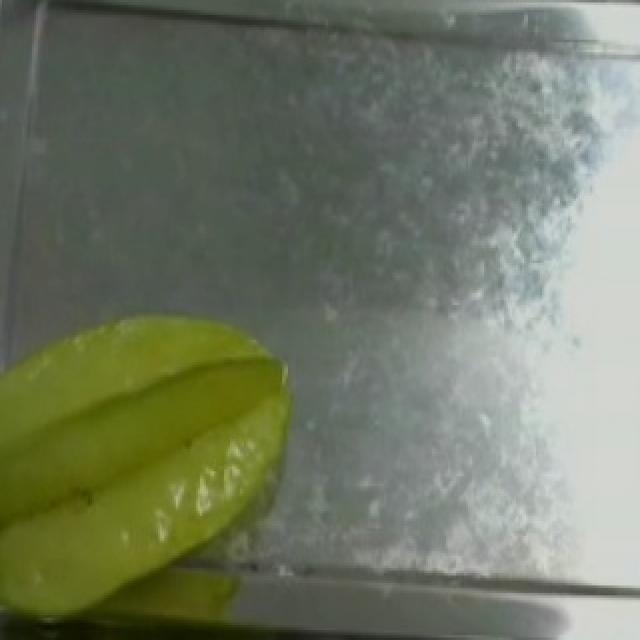fruit: (6, 288, 340, 640)
